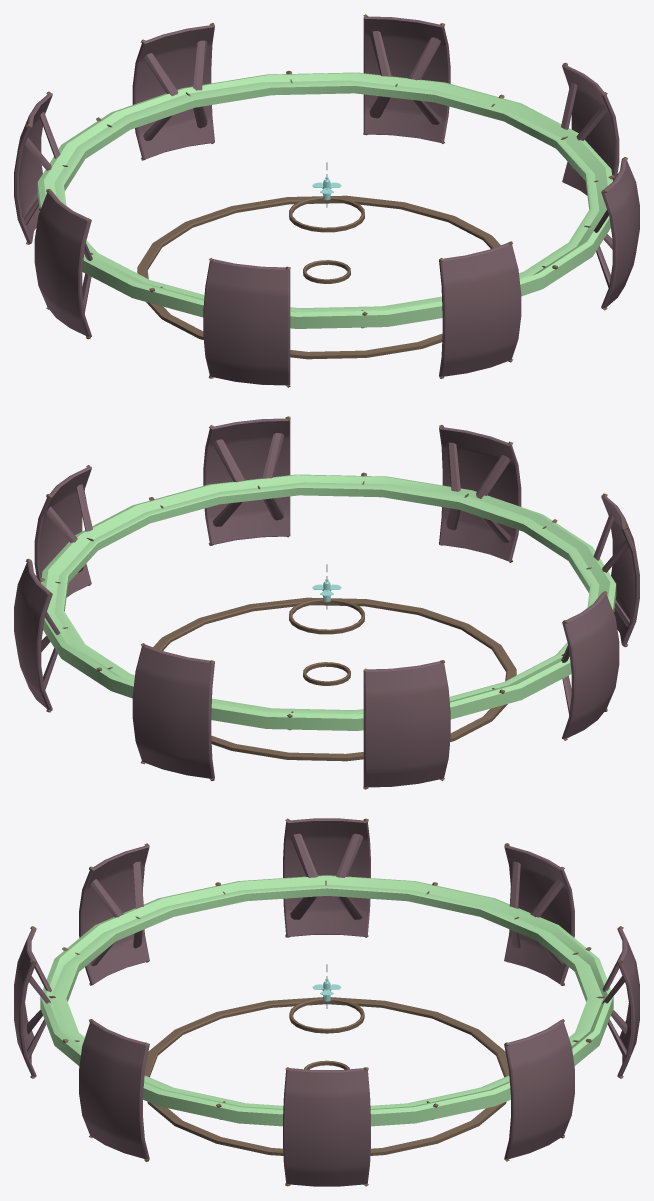
Rendered from S_PrisonSpaceStation.fbx.
3 views of the same model, one above another, from view 1: azimuth 30°, elevation 25°; view 2: azimuth 150°, elevation 25°; view 3: azimuth 270°, elevation 25° (orthographic).
Parts seen in each view (by area): view 1: OuterRing, Rings; view 2: OuterRing, Rings; view 3: OuterRing, Rings.
Part boxes in pixels (left/top/right/bottom): OuterRing: left=14, top=14, right=639, bottom=387; Rings: left=137, top=195, right=500, bottom=359; OuterRing: left=14, top=416, right=639, bottom=789; Rings: left=153, top=597, right=516, bottom=761; OuterRing: left=14, top=818, right=639, bottom=1186; Rings: left=144, top=997, right=509, bottom=1155.
Bounding box in the file's own units: 14384 × 3476 × 14384.
